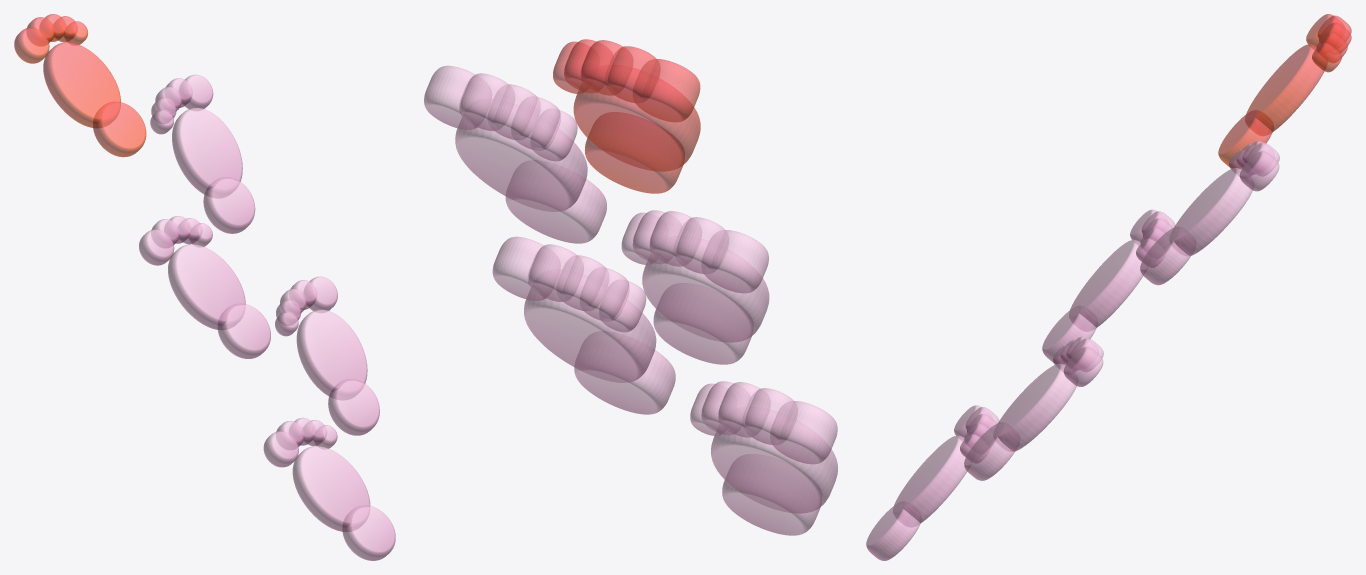
The model's file is repeating-footprints.glb.
3 renders of one model, left to right at view 1: azimuth 30°, elevation 25°; view 2: azimuth 150°, elevation 25°; view 3: azimuth 270°, elevation 25°, orthographic. The views are drawn at different scales.
Parts seen in each view (by area): view 1: sole_5, sole_1, sole_3, sole_2, sole_4, heel_2, heel_3, heel_5, heel_1, heel_4, toe0_1, toe0_3 (+18 smaller); view 2: sole_5, sole_3, sole_1, sole_4, sole_2, heel_2, heel_4, heel_1, heel_5, heel_3, toe0_2, toe0_4 (+23 smaller); view 3: sole_2, sole_4, sole_5, sole_3, sole_1, heel_1, heel_4, heel_2, heel_5, heel_3, toe0_4, toe0_2 (+7 smaller).
Boxes of the visible parts, <box> form: sole_5: <box>43,42,120,127</box>; sole_1: <box>292,446,370,531</box>; sole_3: <box>168,244,245,329</box>; sole_2: <box>296,309,367,399</box>; sole_4: <box>172,107,242,197</box>; heel_2: <box>328,379,379,435</box>; heel_3: <box>218,304,270,358</box>; heel_5: <box>93,102,146,157</box>; heel_1: <box>342,506,395,560</box>; heel_4: <box>203,177,255,233</box>; toe0_1: <box>263,431,298,467</box>; toe0_3: <box>139,229,174,265</box>; sole_5: <box>573,68,700,171</box>; sole_3: <box>642,239,769,342</box>; sole_1: <box>711,410,837,513</box>; sole_4: <box>455,99,587,211</box>; sole_2: <box>524,270,656,382</box>; heel_2: <box>574,331,675,414</box>; heel_4: <box>505,160,606,243</box>; heel_1: <box>722,454,821,535</box>; heel_5: <box>584,112,684,193</box>; heel_3: <box>653,283,752,364</box>; toe0_2: <box>492,236,560,300</box>; toe0_4: <box>424,65,491,129</box>; sole_2: <box>994,363,1077,451</box>; sole_4: <box>1170,168,1253,255</box>; sole_5: <box>1245,44,1327,135</box>; sole_3: <box>1069,240,1147,331</box>; sole_1: <box>893,435,971,526</box>; heel_1: <box>866,502,921,560</box>; heel_4: <box>1140,227,1195,285</box>; heel_2: <box>964,423,1019,480</box>; heel_5: <box>1218,110,1273,168</box>; heel_3: <box>1042,306,1097,363</box>; toe0_4: <box>1239,151,1279,191</box>; toe0_2: <box>1063,346,1103,386</box>.
Bounding box in the file's own units: 0.6114 × 1.18 × 1.1.
